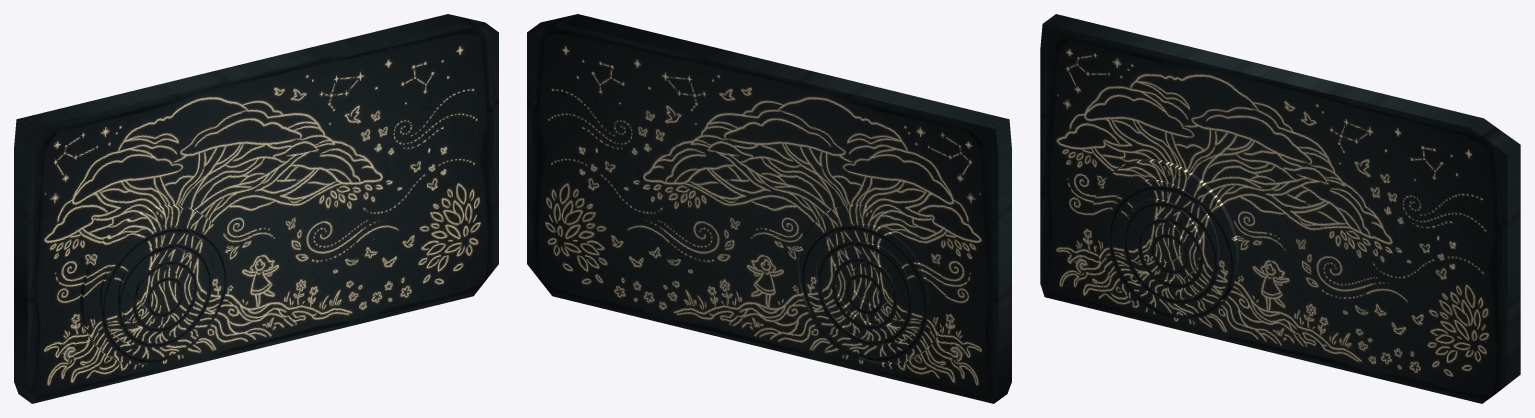
Rendered from Eurydice_MuralPuzzle_02_GiantTree.obj.
3 renders of one model, left to right at view 1: azimuth 30°, elevation 25°; view 2: azimuth 150°, elevation 25°; view 3: azimuth 330°, elevation 25°, orthographic.
Visible parts, largest first — view 1: Main_Wall, Ring_4_Outer, Ring_3_Middle, Ring_2_Inner, Ring_1_Center; view 2: Main_Wall, Ring_4_Outer, Ring_3_Middle, Ring_2_Inner, Ring_1_Center; view 3: Main_Wall, Ring_4_Outer, Ring_3_Middle, Ring_2_Inner, Ring_1_Center.
Part boxes in pixels (box(x1,y1,x2,y2)): Main_Wall: box(14, 14, 498, 403); Ring_4_Outer: box(80, 205, 229, 364); Ring_3_Middle: box(100, 225, 212, 345); Ring_2_Inner: box(118, 245, 195, 327); Ring_1_Center: box(136, 264, 177, 308); Main_Wall: box(527, 14, 1011, 403); Ring_4_Outer: box(799, 205, 945, 362); Ring_3_Middle: box(817, 223, 928, 343); Ring_2_Inner: box(834, 242, 910, 324); Ring_1_Center: box(852, 261, 893, 305); Main_Wall: box(1040, 14, 1520, 403); Ring_4_Outer: box(1091, 159, 1239, 317); Ring_3_Middle: box(1108, 179, 1219, 298); Ring_2_Inner: box(1125, 198, 1201, 280); Ring_1_Center: box(1142, 217, 1183, 261).
Bounding box in the file's own units: 8 × 4.47 × 0.505.
Materials: 1 (1 with a texture image).
